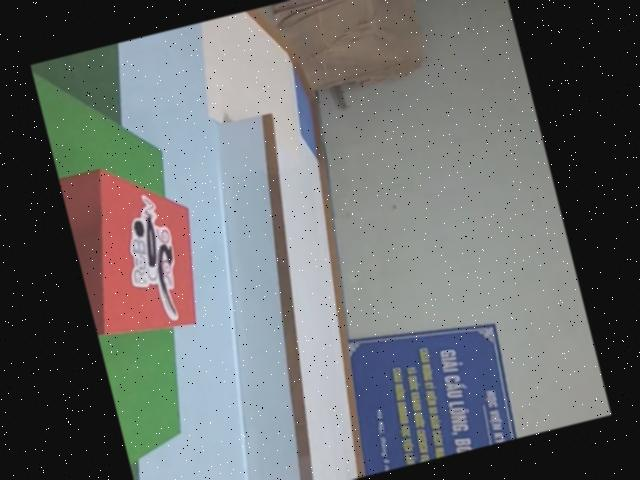R1: (57, 147, 219, 349)
